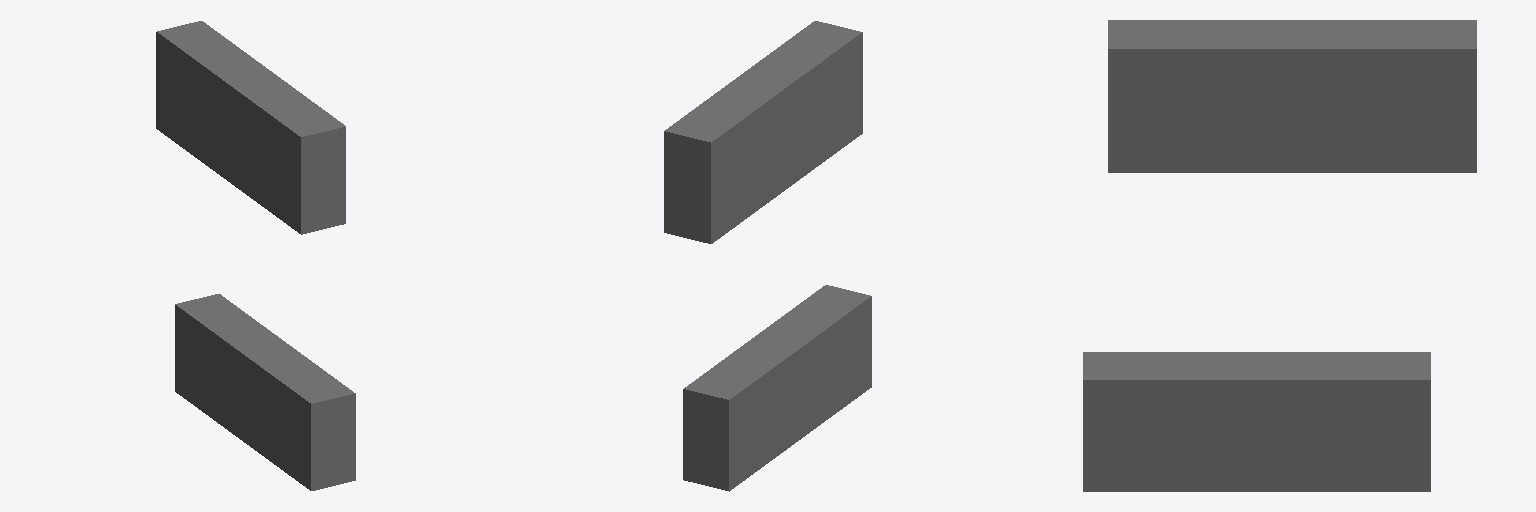
The robot description file, URDF, robot "realsense2_camera":
<?xml version="1.0" ?>
<!-- =================================================================================== -->
<!-- |    This document was autogenerated by xacro from tests/one_of_each.xacro        | -->
<!-- |    EDITING THIS FILE BY HAND IS NOT RECOMMENDED                                 | -->
<!-- =================================================================================== -->
<robot name="realsense2_camera">
  <material name="aluminum">
    <color rgba="0.5 0.5 0.5 1"/>
  </material>
  <material name="plastic">
    <color rgba="0.1 0.1 0.1 1"/>
  </material>
  <material name="aluminum">
    <color rgba="0.5 0.5 0.5 1"/>
  </material>
  <material name="plastic">
    <color rgba="0.1 0.1 0.1 1"/>
  </material>
  <material name="aluminum">
    <color rgba="0.5 0.5 0.5 1"/>
  </material>
  <material name="plastic">
    <color rgba="0.1 0.1 0.1 1"/>
  </material>
  <material name="aluminum">
    <color rgba="0.5 0.5 0.5 1"/>
  </material>
  <material name="plastic">
    <color rgba="0.1 0.1 0.1 1"/>
  </material>
  <link name="base_link"/>
  <!-- camera body, with origin at bottom screw mount -->
  <joint name="d415_joint" type="fixed">
    <origin rpy="0 0 0" xyz="0 0 0"/>
    <parent link="base_link"/>
    <child link="d415_bottom_screw_frame"/>
  </joint>
  <link name="d415_bottom_screw_frame"/>
  <joint name="d415_link_joint" type="fixed">
    <origin rpy="0 0 0" xyz="0 0.02 0.0115"/>
    <parent link="d415_bottom_screw_frame"/>
    <child link="d415_link"/>
  </joint>
  <link name="d415_link">
    <visual>
      <origin rpy="1.5707963267948966 0 1.5707963267948966" xyz="0.00987 -0.02 0"/>
      <geometry>
        <mesh filename="package://realsense2_description/meshes/d415.stl"/>
      </geometry>
      <material name="aluminum"/>
    </visual>
    <collision>
      <origin rpy="0 0 0" xyz="0 -0.02 0"/>
      <geometry>
        <box size="0.02005 0.099 0.023"/>
      </geometry>
    </collision>
    <inertial>
      <mass value="0.072"/>
      <!-- The following are not reliable values, and should not be used for modeling -->
      <origin xyz="0 0 0"/>
      <inertia ixx="0.003881243" ixy="0.0" ixz="0.0" iyy="0.000498940" iyz="0.0" izz="0.003879257"/>
    </inertial>
  </link>
  <!-- camera body, with origin at bottom screw mount -->
  <joint name="d435_joint" type="fixed">
    <origin rpy="0 0 0" xyz="0 0 0.1"/>
    <parent link="base_link"/>
    <child link="d435_bottom_screw_frame"/>
  </joint>
  <link name="d435_bottom_screw_frame"/>
  <joint name="d435_link_joint" type="fixed">
    <origin rpy="0 0 0" xyz="0.010600000000000002 0.0175 0.0125"/>
    <parent link="d435_bottom_screw_frame"/>
    <child link="d435_link"/>
  </joint>
  <link name="d435_link">
    <visual>
      <!-- the mesh origin is at front plate in between the two infrared camera axes -->
      <origin rpy="1.5707963267948966 0 1.5707963267948966" xyz="0.0043 -0.0175 0"/>
      <geometry>
        <mesh filename="package://realsense2_description/meshes/d435.dae"/>
      </geometry>
    </visual>
    <collision>
      <origin rpy="0 0 0" xyz="0 -0.0175 0"/>
      <geometry>
        <box size="0.02505 0.09 0.025"/>
      </geometry>
    </collision>
    <inertial>
      <!-- The following are not reliable values, and should not be used for modeling -->
      <mass value="0.072"/>
      <origin xyz="0 0 0"/>
      <inertia ixx="0.003881243" ixy="0.0" ixz="0.0" iyy="0.000498940" iyz="0.0" izz="0.003879257"/>
    </inertial>
  </link>
  <!-- camera body, with origin at bottom screw mount -->
  <joint name="r410_joint" type="fixed">
    <origin rpy="0 0 0" xyz="0 0 0.2"/>
    <parent link="base_link"/>
    <child link="r410_link"/>
  </joint>
  <link name="r410_link">
    <visual>
      <origin rpy="1.5707963267948966 0 1.5707963267948966" xyz="0 -0.0375 0.0175"/>
      <geometry>
        <box size="0.099 0.035 0.0185"/>
        <!--<mesh filename="package://realsense2_description/meshes/r410/r410.dae" />-->
      </geometry>
      <material name="aluminum"/>
    </visual>
    <collision>
      <origin rpy="0 0 0" xyz="0.0 0.0 0.0175"/>
      <geometry>
        <box size="0.0185 0.099 0.035"/>
      </geometry>
    </collision>
    <inertial>
      <!-- The following are not reliable values, and should not be used for modeling -->
      <mass value="0.564"/>
      <origin xyz="0 0 0"/>
      <inertia ixx="0.003881243" ixy="0.0" ixz="0.0" iyy="0.000498940" iyz="0.0" izz="0.003879257"/>
    </inertial>
  </link>
  <!-- camera body, with origin at bottom screw mount -->
  <joint name="r430_joint" type="fixed">
    <origin rpy="0 0 0" xyz="0 0 0.3"/>
    <parent link="base_link"/>
    <child link="r430_link"/>
  </joint>
  <link name="r430_link">
    <visual>
      <origin rpy="1.5707963267948966 0 1.5707963267948966" xyz="0 -0.0275 0.0195"/>
      <geometry>
        <box size="0.105 0.039 0.019"/>
        <!--<mesh filename="package://realsense2_description/meshes/r430/r430.dae" />-->
      </geometry>
      <material name="aluminum"/>
    </visual>
    <collision>
      <origin rpy="0 0 0" xyz="0.0 0.0 0.0195"/>
      <geometry>
        <box size="0.019 0.105 0.039"/>
      </geometry>
    </collision>
    <inertial>
      <!-- The following are not reliable values, and should not be used for modeling -->
      <mass value="0.564"/>
      <origin xyz="0 0 0"/>
      <inertia ixx="0.003881243" ixy="0.0" ixz="0.0" iyy="0.000498940" iyz="0.0" izz="0.003879257"/>
    </inertial>
  </link>
</robot>

--- What the picture shows (computed from the rendered views, not written in the file) ---
The picture shows the robot from 3 angles, left to right: view 1: azimuth 30°, elevation 25°; view 2: azimuth 150°, elevation 25°; view 3: azimuth 270°, elevation 25°; orthographic projection.
Robot: realsense2_camera — 7 links, 6 joints (6 fixed); root link base_link; default pose: every joint at zero.
Links seen in each view (by area): view 1: r430_link, r410_link; view 2: r430_link, r410_link; view 3: r430_link, r410_link.
Boxes of the visible links, box(x1,y1,x2,y2) form: r430_link: box(156, 21, 345, 234); r410_link: box(175, 294, 355, 490); r430_link: box(664, 21, 862, 243); r410_link: box(683, 285, 871, 491); r430_link: box(1108, 20, 1476, 172); r410_link: box(1083, 352, 1430, 491).
Bounding box of the posed robot: 0.019 × 0.112 × 0.139 m (x, y, z).
0 mesh visuals loaded from 2 distinct referenced files (none loaded); not drawn: 2 (reference not matched to a file when rendering).
